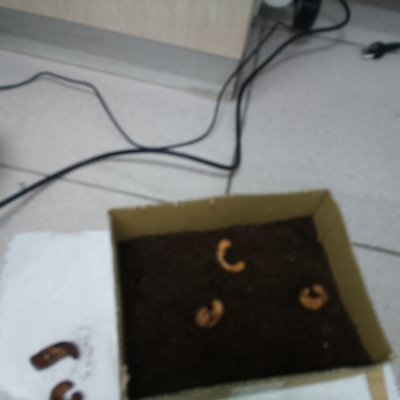eggs: (207, 232, 250, 277), (293, 281, 334, 314), (193, 295, 226, 332)
